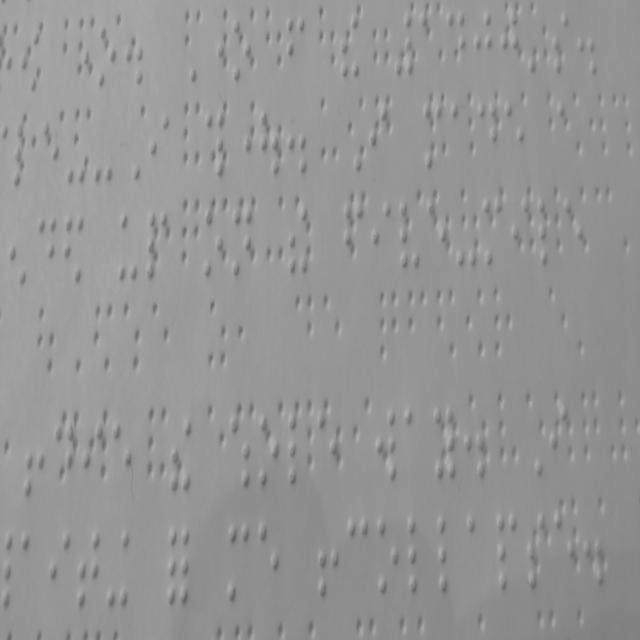braiile: (434, 507, 462, 606), (492, 507, 519, 601), (344, 512, 372, 602), (426, 192, 451, 292), (404, 512, 431, 604), (546, 399, 574, 486), (560, 187, 587, 277), (144, 203, 171, 291), (108, 413, 134, 504), (256, 516, 280, 614), (376, 505, 400, 602), (552, 505, 576, 601), (33, 206, 58, 298), (50, 415, 76, 503), (314, 406, 340, 493), (430, 402, 456, 488), (396, 192, 422, 278), (76, 527, 100, 620), (442, 6, 469, 88), (526, 504, 550, 596), (374, 402, 399, 490), (342, 191, 365, 285), (229, 200, 254, 286), (12, 107, 37, 193), (80, 414, 104, 502), (254, 411, 280, 492), (227, 516, 250, 607), (371, 193, 394, 284), (472, 6, 498, 86), (49, 523, 72, 613), (402, 402, 426, 488), (534, 188, 558, 274), (556, 94, 580, 178), (476, 95, 499, 180), (284, 8, 309, 86), (202, 202, 225, 286), (421, 96, 444, 180), (286, 410, 310, 490), (118, 208, 140, 294), (448, 100, 471, 182), (231, 9, 254, 91), (481, 194, 504, 275), (368, 100, 391, 181), (502, 96, 525, 176), (498, 0, 521, 80), (40, 114, 62, 196), (512, 189, 532, 275), (148, 108, 170, 184), (416, 6, 438, 82), (98, 18, 120, 94), (552, 8, 570, 82)
